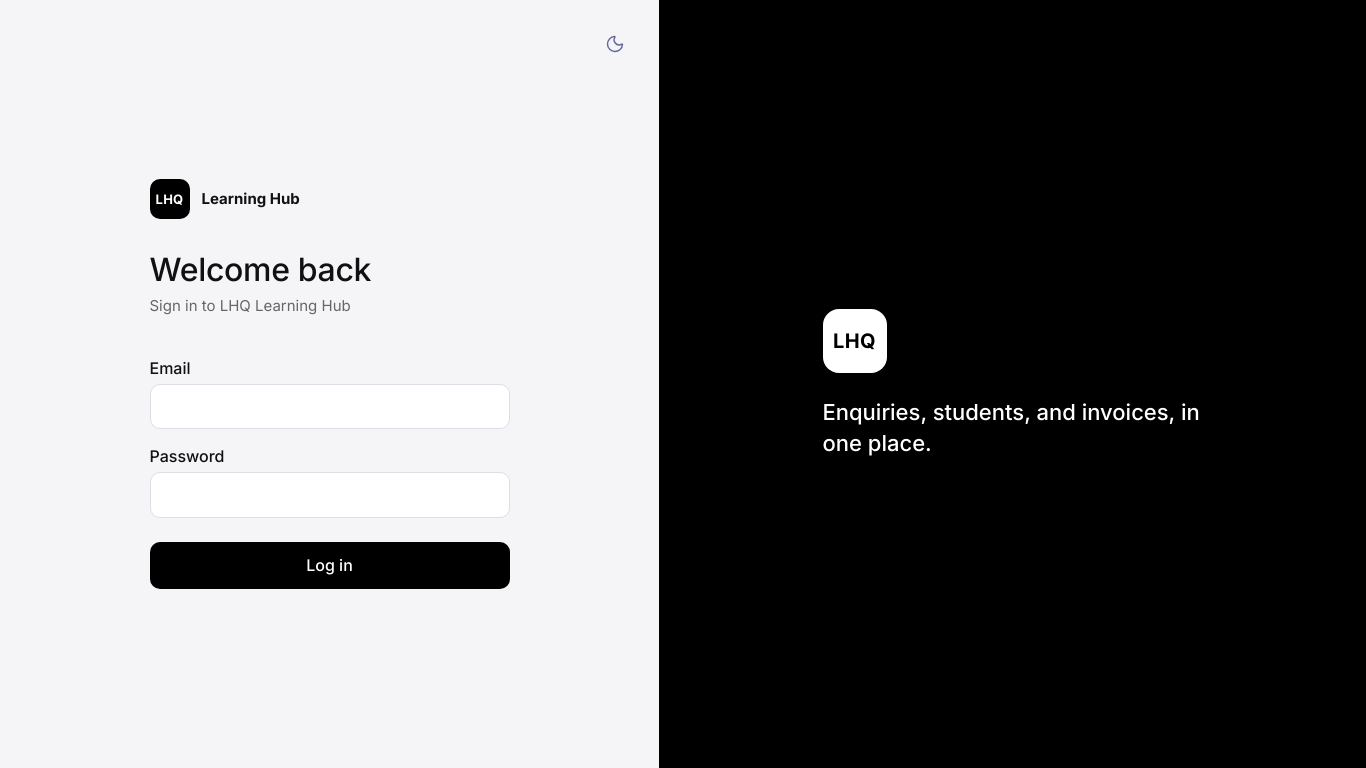
Test: LoginPage › toggles between light and dark mode
Click the button named "Switch to dark mode" at (615, 44), box [595, 24, 635, 64]
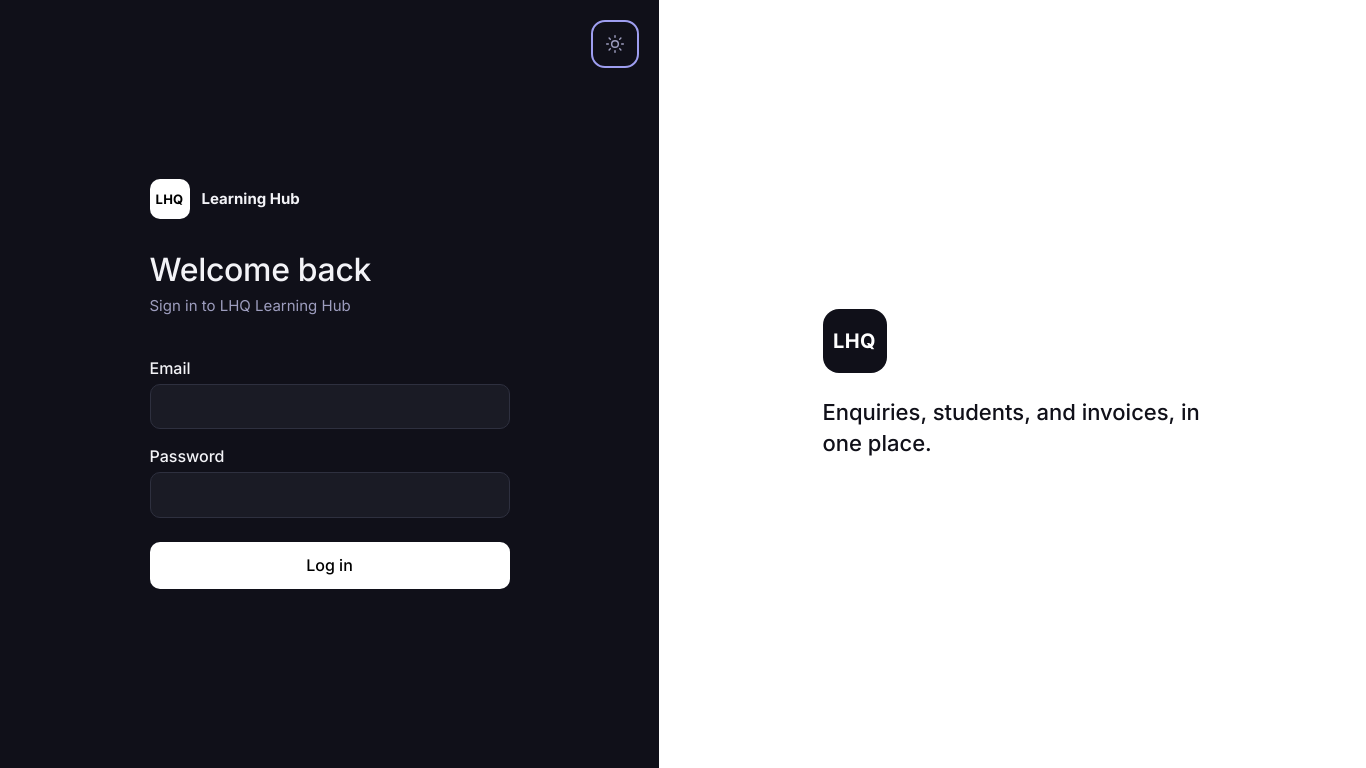
Result: the button named "Switch to light mode" is shown at [595, 24, 635, 64]
